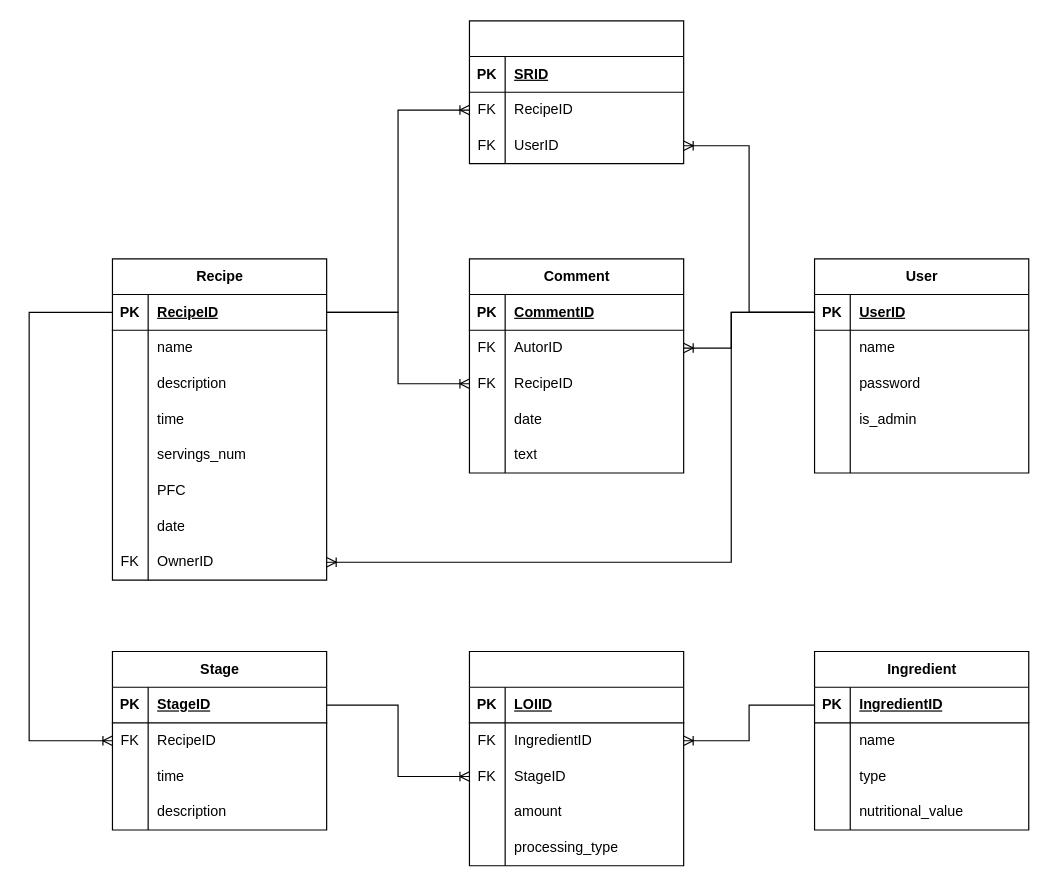
The diagram is 1050 pixels wide and 887 high, and some of its shapes have lost their labels. Here are the shapes that lost their labels. From the top down, the box of each, then its label:
(468, 20, 684, 164): SavedRecipes
(468, 650, 684, 866): ListOfIngredient
